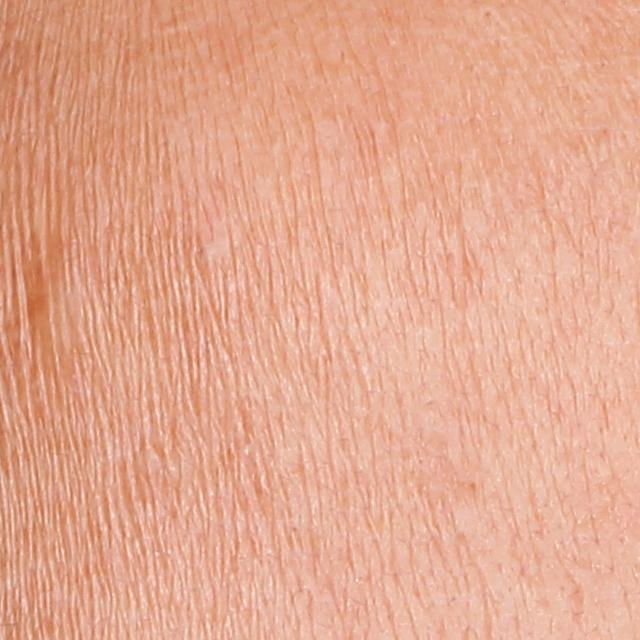comedo: (477, 5, 498, 20)
